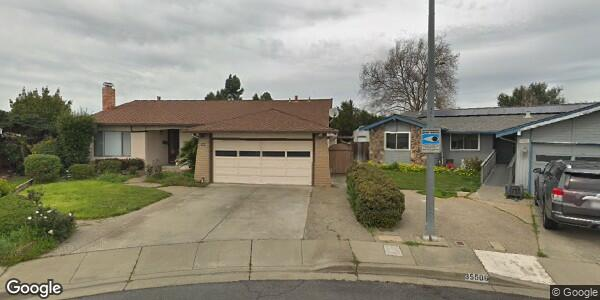Steel_Pole: (421, 1, 443, 241)
